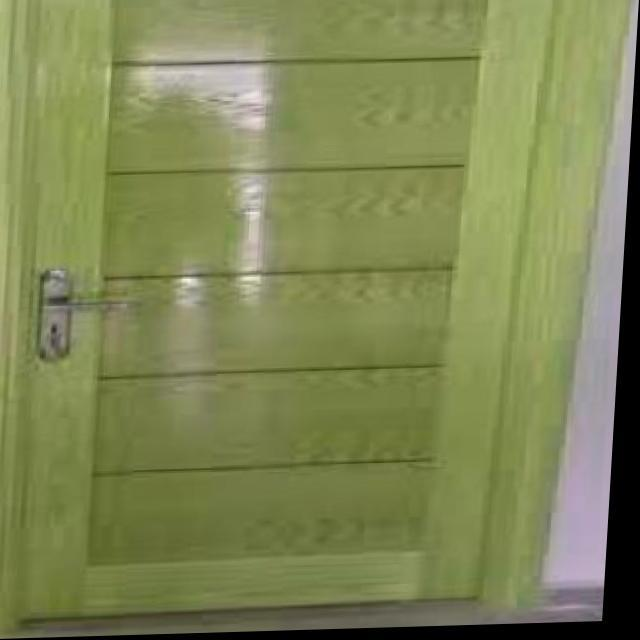door_handle: (36, 285, 149, 327)
